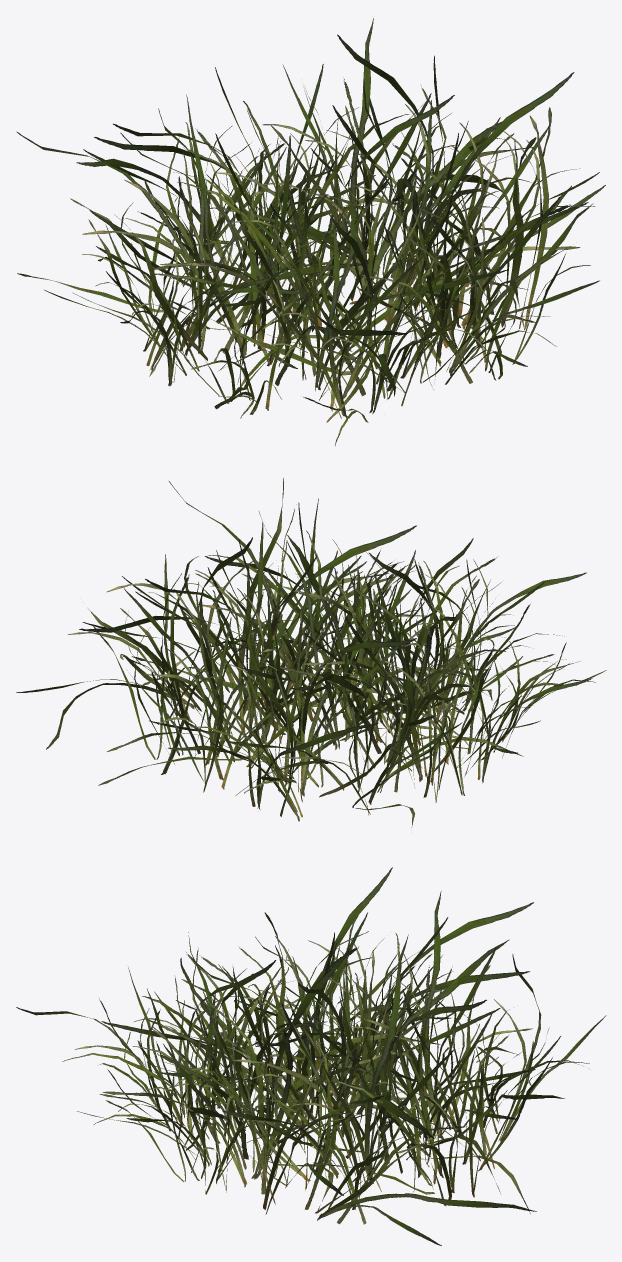
The model's file is grass-medium-01-large-a.glb.
3 views of the same model, one above another, from view 1: azimuth 30°, elevation 25°; view 2: azimuth 150°, elevation 25°; view 3: azimuth 270°, elevation 25° (orthographic). The views are drawn at different scales.
Parts seen in each view (by area): view 1: grass_medium_01_large_a; view 2: grass_medium_01_large_a; view 3: grass_medium_01_large_a.
Boxes of the visible parts, x1,y1,x2,y2 form: grass_medium_01_large_a: (16, 18, 605, 445); grass_medium_01_large_a: (16, 478, 606, 827); grass_medium_01_large_a: (16, 867, 606, 1245).
Size of the model in its own units: 0.317 by 0.1467 by 0.3266.
Materials: 1 (1 with a texture image).
